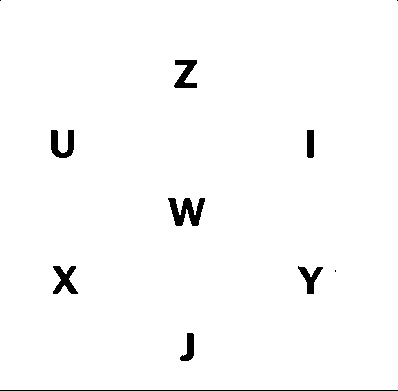I: (301, 123, 322, 168)
U: (48, 126, 80, 163)
